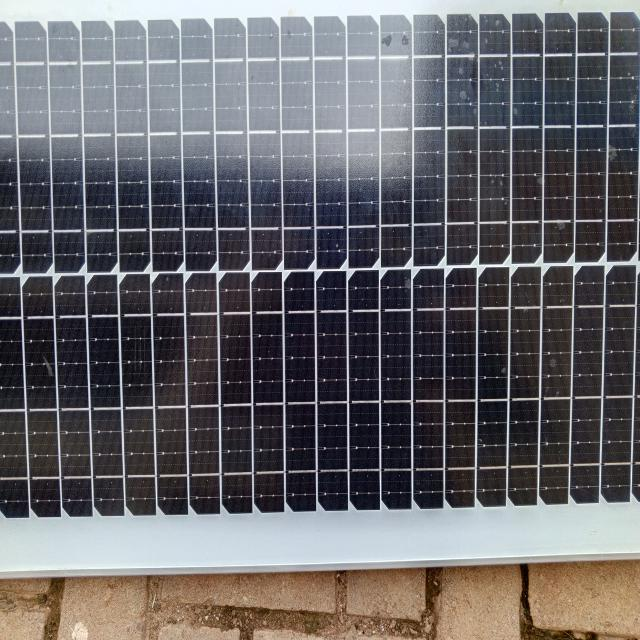Clean: (2, 7, 640, 534)
